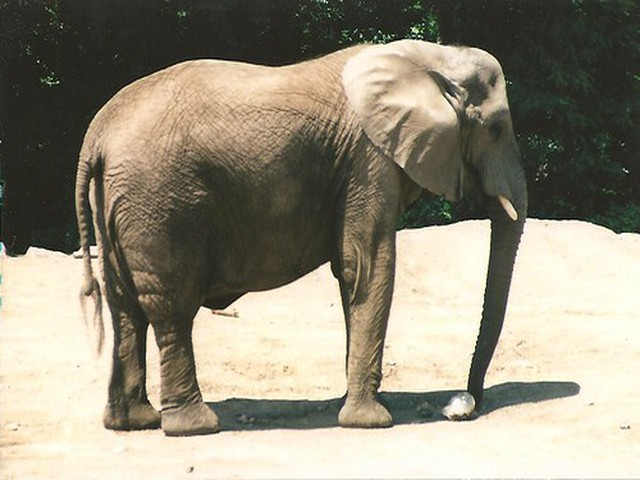Elephant: (66, 35, 532, 431)
